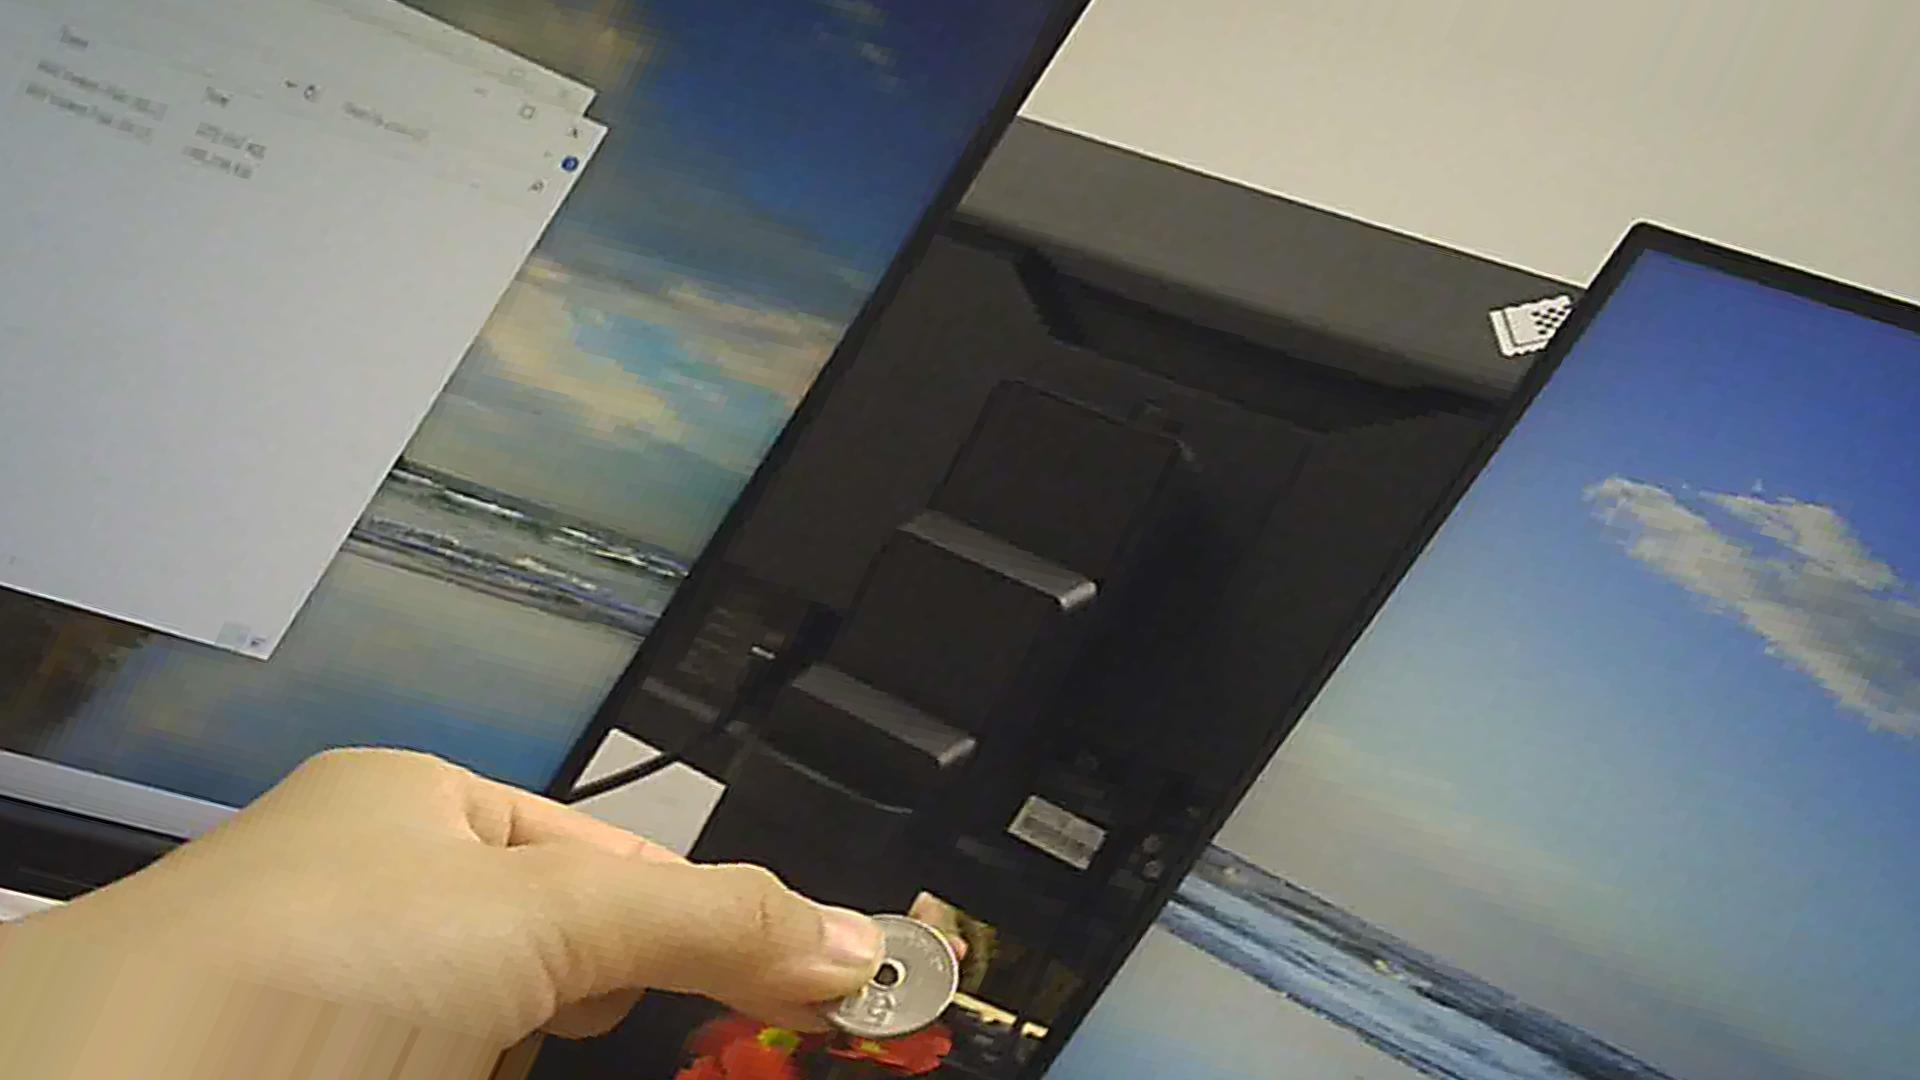50 Yen: (808, 909, 957, 1040)
